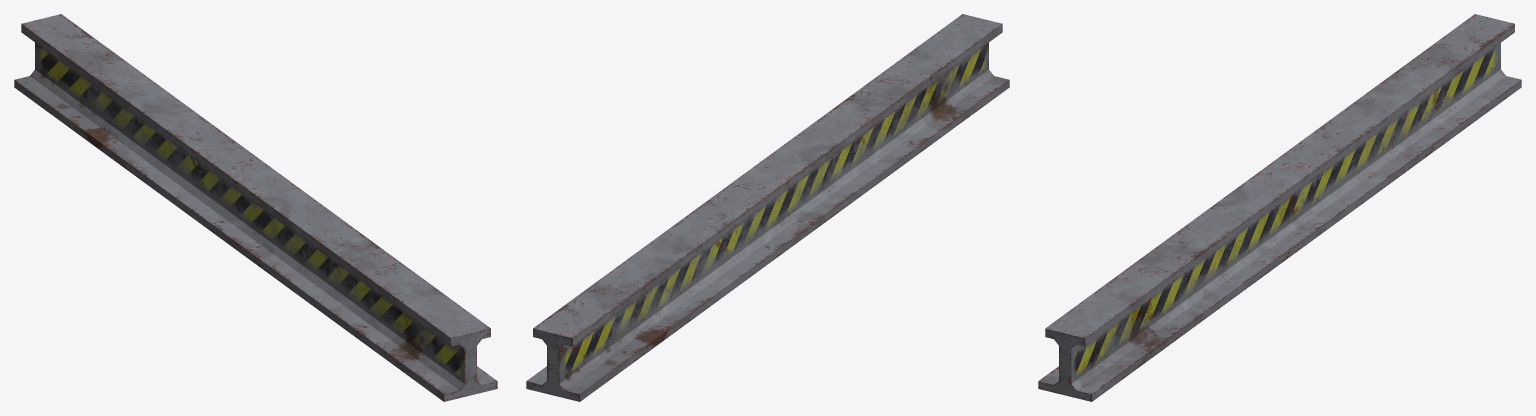
The model's file is beam (1).glb.
3 views of the same model, side by side, from view 1: azimuth 30°, elevation 25°; view 2: azimuth 150°, elevation 25°; view 3: azimuth 330°, elevation 25° (orthographic).
Visible parts, largest first — view 1: Object_3; view 2: Object_3; view 3: Object_3.
Part boxes in pixels (<box>): Object_3: <box>14,14,497,401</box>; Object_3: <box>526,14,1009,401</box>; Object_3: <box>1038,14,1521,401</box>.
Size of the model in its own units: 0.8636 by 0.9529 by 11.98.
Materials: 1 (1 with a texture image).
